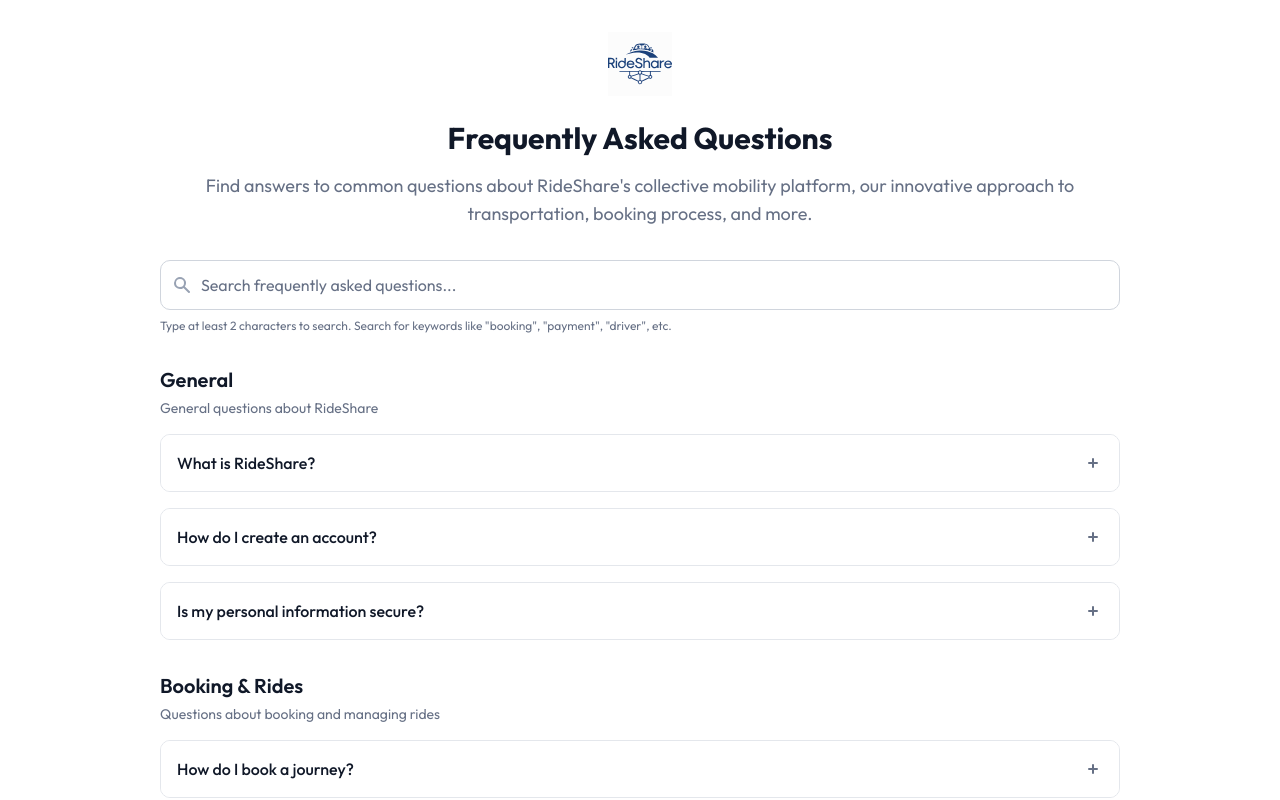
FAQ Search Functionality › shows loading indicator while searching
// Type in the search box
Type "booking" into the field with placeholder "Search frequently asked questions..." at [640, 285], box [160,260,1120,310]
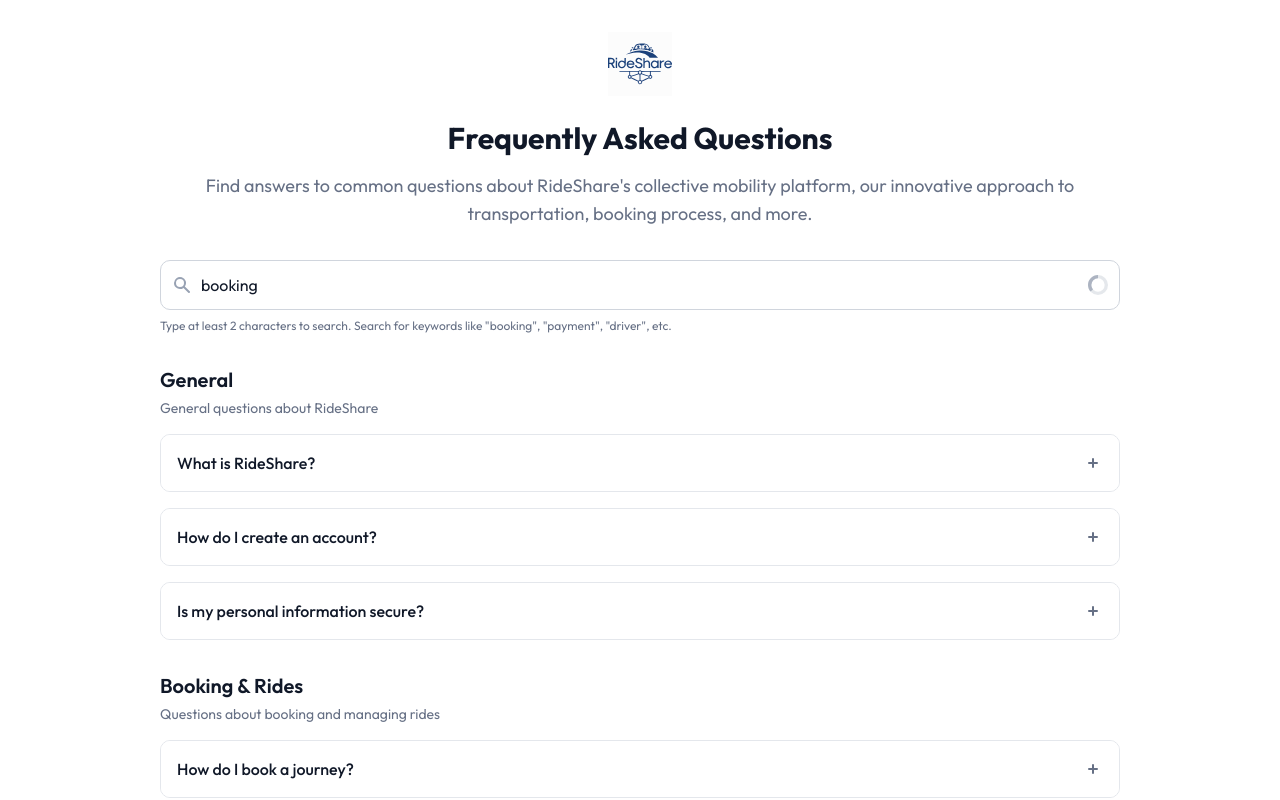
Now the icon with test id "loading-spinner" is shown, box [1088,275,1108,295]
